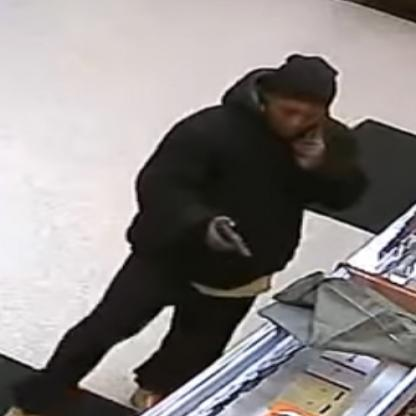criminal: (2, 52, 365, 416)
weapon: (218, 216, 253, 262)
